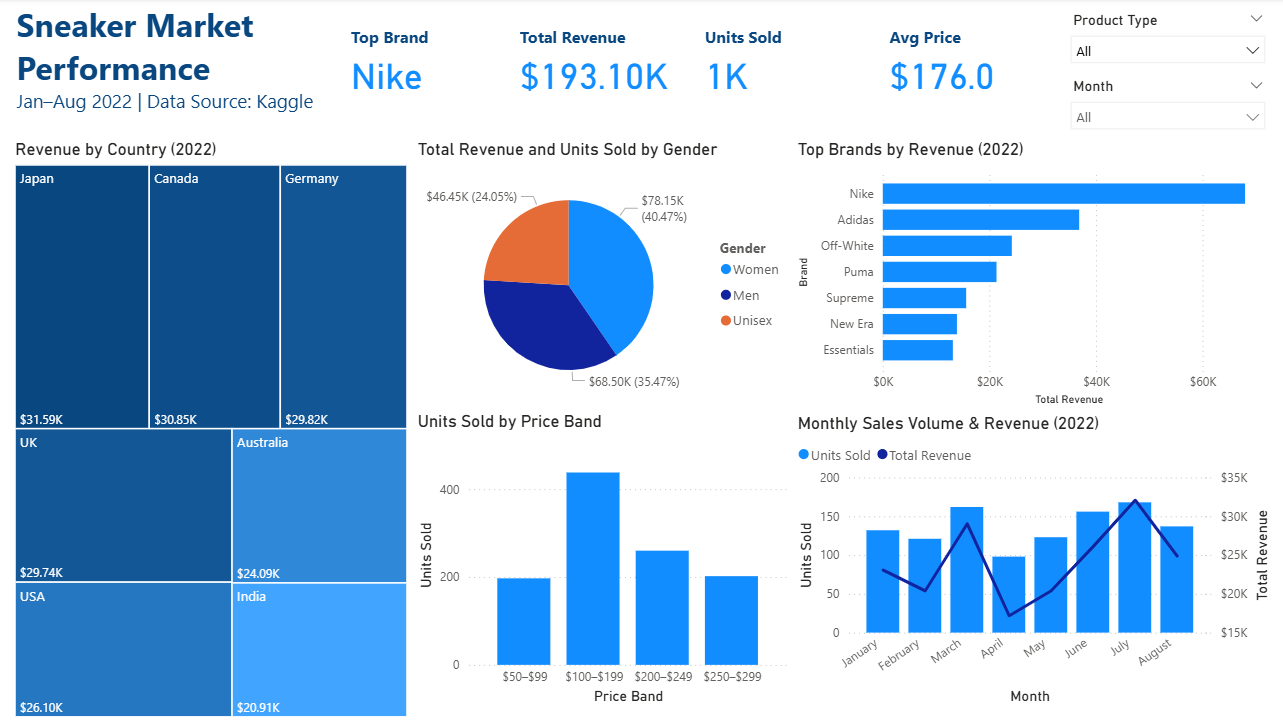

This screenshot's page, from the dashboard's own definition file:
{"tool":"powerbi","page":{"name":"Page 1","canvas":[1280,720],"ordinal":0},"visuals":[{"type":"treemap","title":"Revenue by Country (2022)","fields":{"Group":["Sales.Country"],"Values":["Sales.Total Revenue"]},"box":[11.4,140,400,580],"z":0},{"type":"lineClusteredColumnComboChart","title":"Monthly Sales Volume & Revenue (2022)","fields":{"Category":["Sales.Date.Variation.Date Hierarchy.Month"],"Y":["Sales.Units Sold"],"Y2":["Sales.Total Revenue"]},"box":[790,412.9,480,294.3],"z":1000},{"type":"clusteredBarChart","title":"Top Brands by Revenue (2022)","fields":{"Category":["Sales.Brand"],"Y":["Sales.Total Revenue"]},"box":[790,140,480,270],"z":2000},{"type":"pieChart","fields":{"Category":["Sales.Gender"],"Y":["Sales.Total Revenue"]},"box":[411.4,140,378.6,270],"z":3000},{"type":"columnChart","fields":{"Category":["Sales.Price Band"],"Y":["Sales.Units Sold"]},"box":[411.4,410,378.6,297.1],"z":4000},{"type":"slicer","fields":{"Values":["Sales.Date.Variation.Date Hierarchy.Month"]},"box":[1055.7,74.3,214.3,67.1],"z":5000},{"type":"slicer","fields":{"Values":["Sales.Product Type"]},"box":[1055.7,9.1,214.3,65.7],"z":6000},{"type":"cardVisual","fields":{"Data":["Sales.Total Revenue","Sales.Units Sold","Sales.Avg Price"]},"box":[501.4,2.9,554.3,120],"z":7000},{"type":"cardVisual","fields":{"Data":["Sales.Top Brand"]},"box":[332.9,2.9,181.4,120],"z":8000},{"type":"textbox","box":[12.9,0,320,122.9],"z":9000}]}

Visuals, with their boxes in screenshot pixels (x1, y1, x2, y2), scaled from the page's 1280x720 canvas onto the 1283x720 screenshot:
"Revenue by Country (2022)" treemap: 11 140 412 719
"Monthly Sales Volume & Revenue (2022)" lineClusteredColumnComboChart: 792 413 1273 707
"Top Brands by Revenue (2022)" clusteredBarChart: 792 140 1273 410
pieChart - Sales.Gender x Sales.Total Revenue: 412 140 792 410
columnChart - Sales.Price Band x Sales.Units Sold: 412 410 792 707
slicer - Sales.Date.Variation.Date Hierarchy.Month: 1058 74 1273 141
slicer - Sales.Product Type: 1058 9 1273 75
cardVisual - Sales.Total Revenue x Sales.Units Sold: 503 3 1058 123
cardVisual - Sales.Top Brand: 334 3 516 123
textbox: 13 0 334 123
